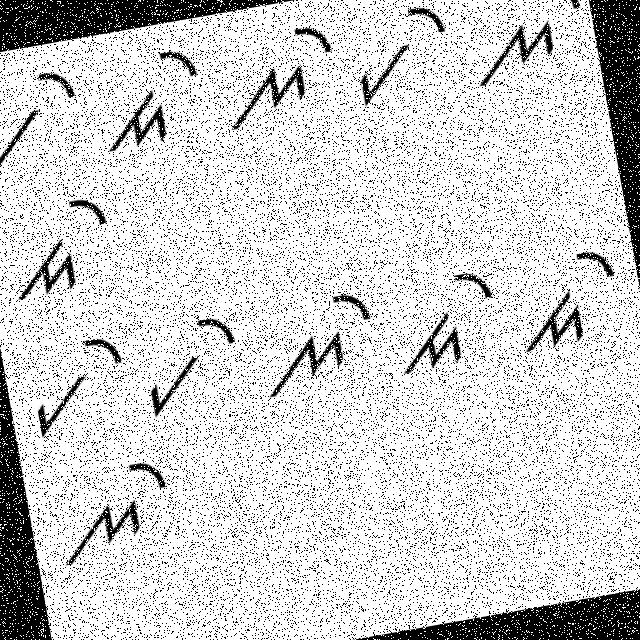day: (86, 37, 214, 171), (0, 183, 124, 316), (506, 236, 634, 364), (378, 253, 508, 379)
nay: (38, 431, 184, 576), (242, 284, 386, 408), (210, 11, 349, 136), (453, 0, 596, 101)
pay: (11, 318, 136, 439), (137, 298, 250, 426), (339, 0, 458, 118), (0, 58, 90, 178)
